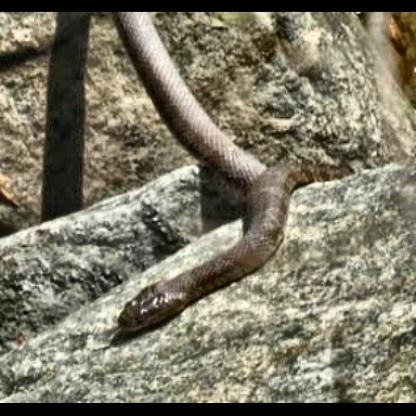Snake: (0, 15, 303, 354)
